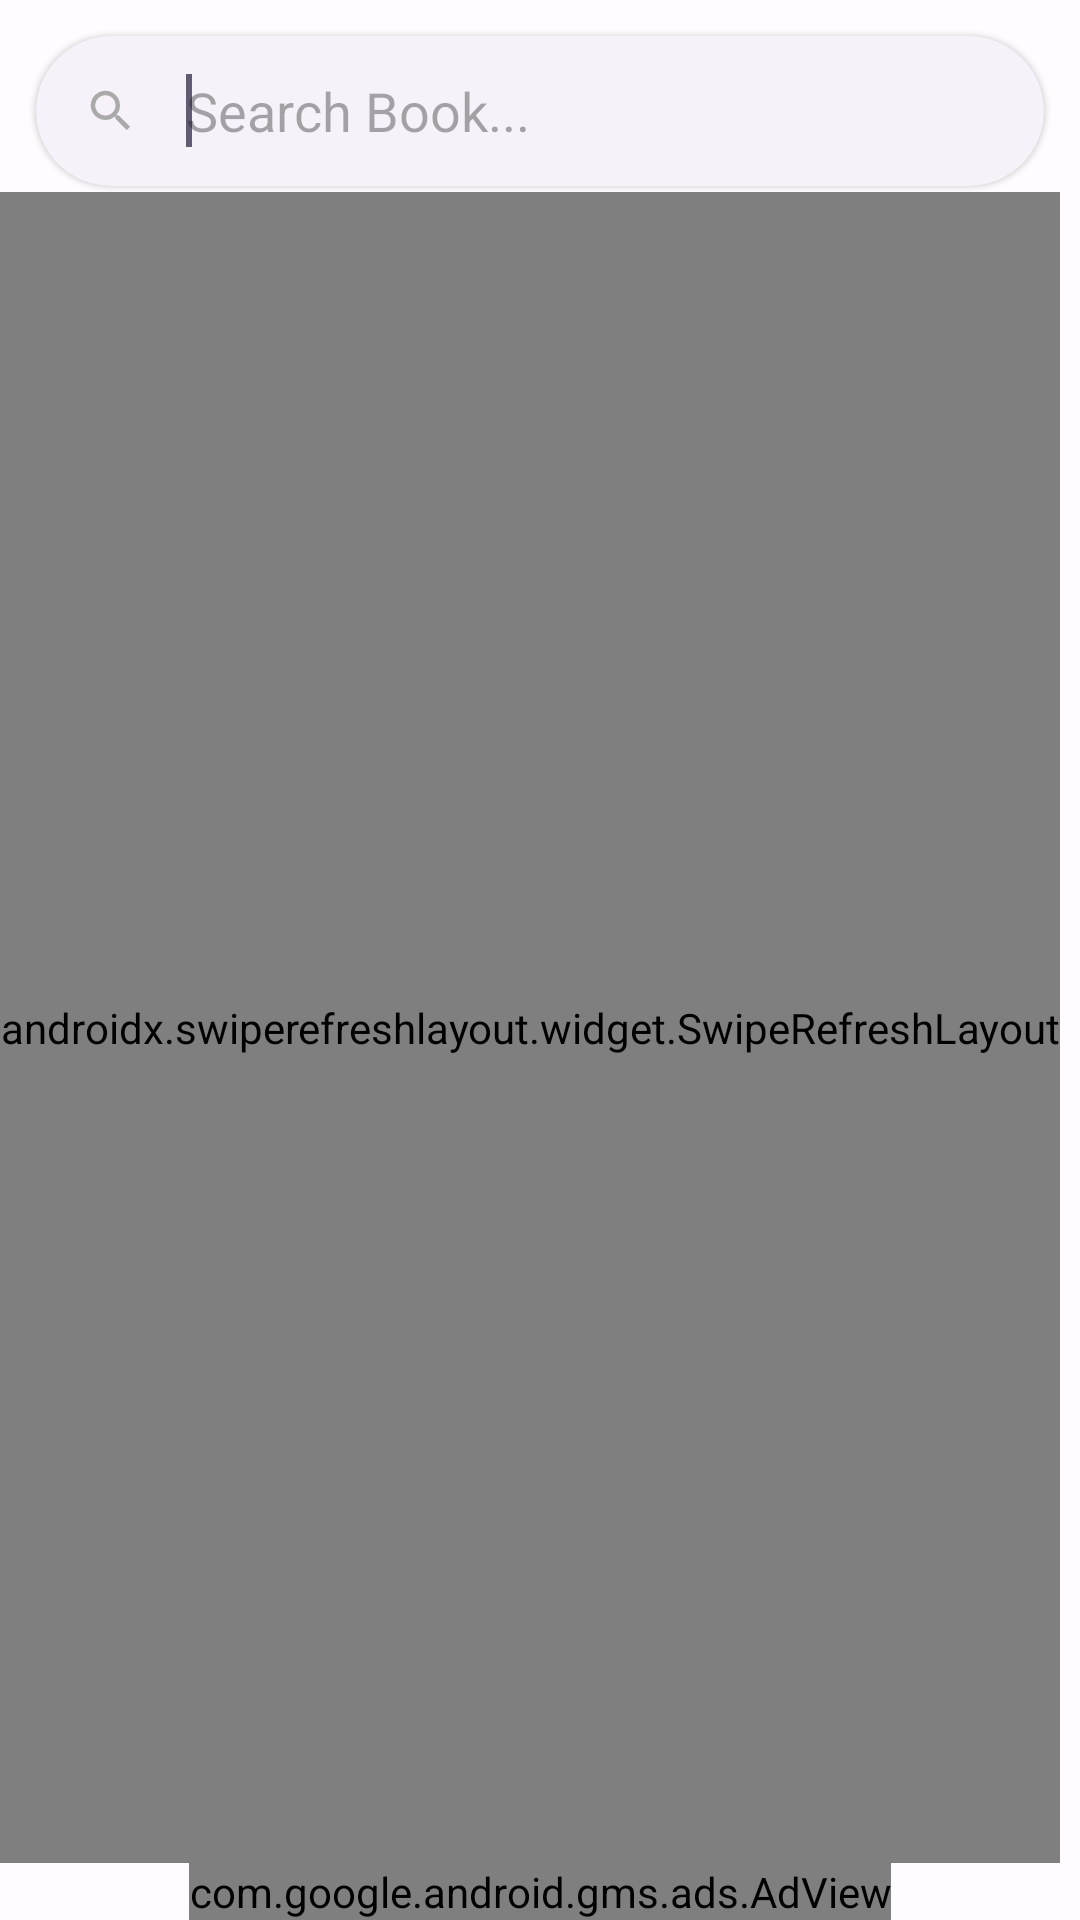

Screen size 1080 x 1920. Icon name, then its center in pixels as (x,y):
search vd theme: (110,110)
